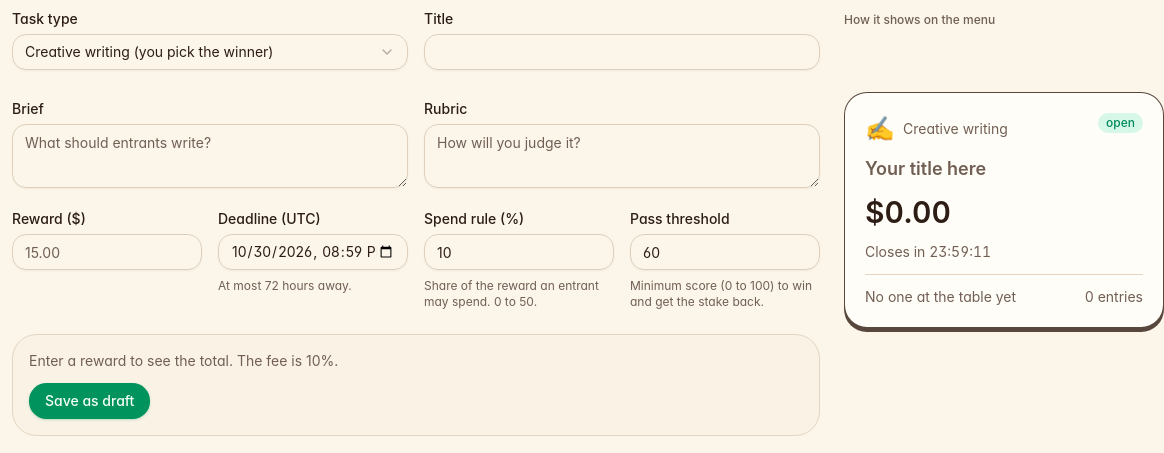
CreateBountyForm › previews the dish card as you type
Check: the element with test id "dish-preview" shows "Your title here", box [865, 158, 986, 179]
Check: the element with test id "dish-preview" shows "$0.00", box [865, 194, 951, 230]
Type "A tagline <b>now</b>" into the field labelled "Title". click: (622, 52)
box: [424, 34, 820, 70]
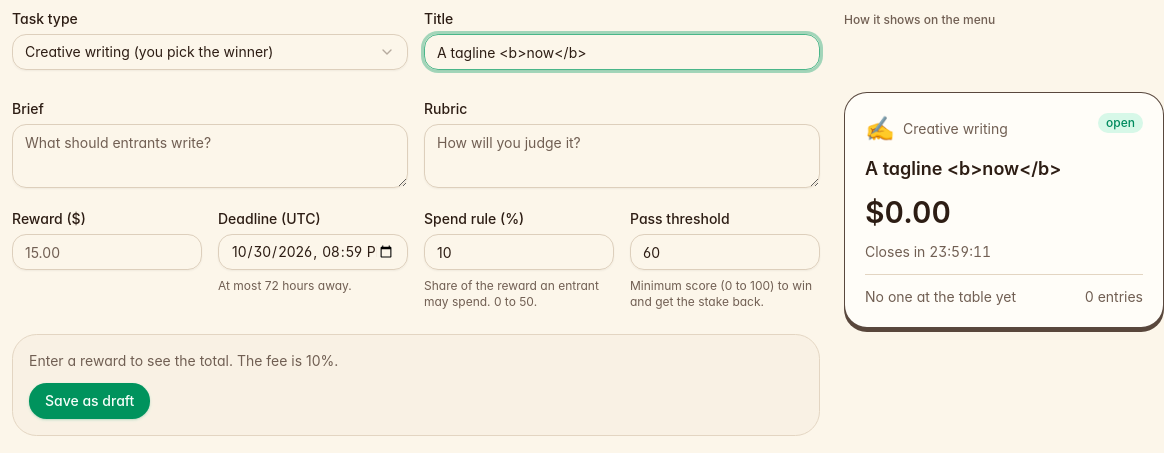
Type "15" into the field labelled "Reward ($)". click: (107, 252)
box: [12, 234, 202, 270]
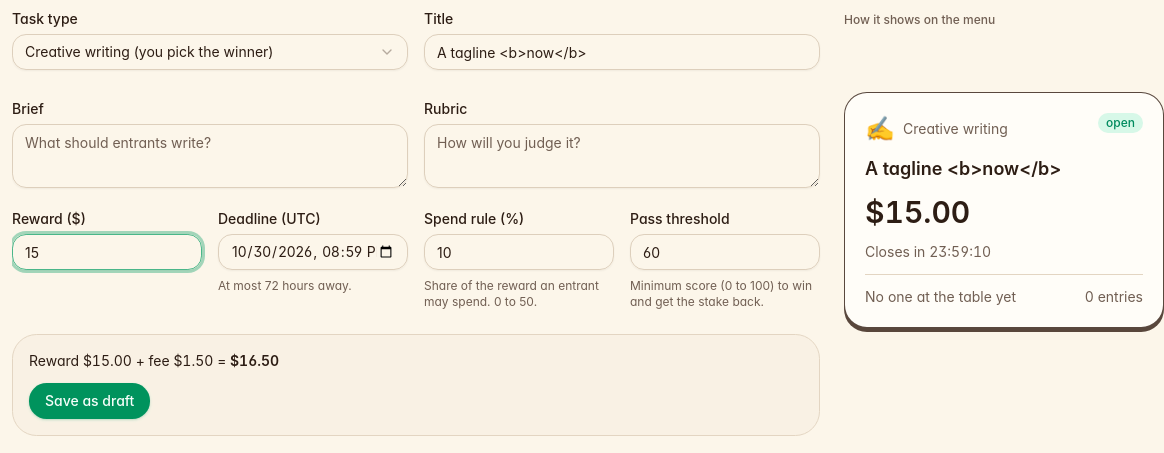
Check: the element with test id "dish-preview" shows "✍️", box [865, 114, 895, 143]
Check: the element with test id "dish-preview" shows "A tagline <b>now</b>", box [865, 158, 1062, 179]
Check: the element with test id "dish-preview" shows "$15.00", box [865, 194, 970, 230]
